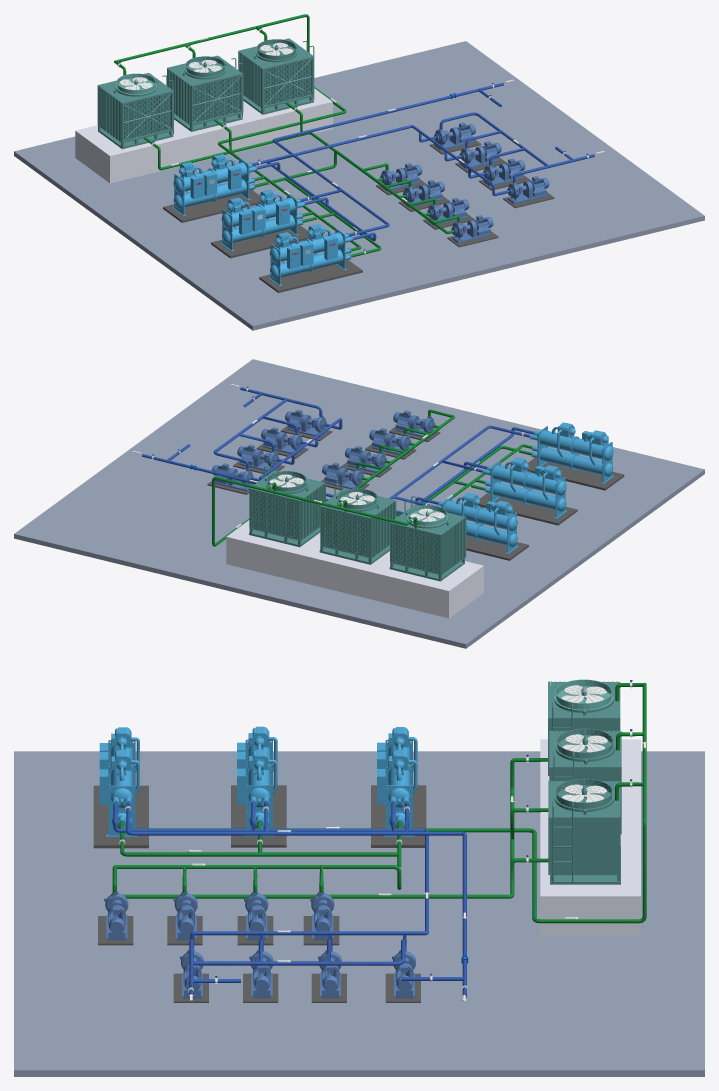
3 views of the same model, one above another, from view 1: azimuth 30°, elevation 25°; view 2: azimuth 150°, elevation 25°; view 3: azimuth 270°, elevation 25° (orthographic). The views are drawn at different scales.
Visible parts, largest first — view 1: 111-地面, 立方体, 1#冷却塔.001, 3#冷却塔, 2#冷却塔, 2#空调主机, 3#空调主机, 1#冷水机, 红管道, 蓝管道, 绿管道, 黄管道2 (+13 smaller); view 2: 111-地面, 立方体, 1#冷却塔.001, 3#冷却塔, 2#冷却塔, 2#空调主机, 3#空调主机, 1#冷水机, 红管道, 黄管道2, 蓝管道, 绿管道 (+12 smaller); view 3: 111-地面, 立方体, 3#冷却塔, 2#冷却塔, 1#冷却塔.001, 红管道, 3#空调主机, 黄管道2, 2#空调主机, 1#冷水机, 绿管道, 蓝管道 (+13 smaller).
Boxes of the visible parts, left/top/right/bottom form: 111-地面: left=14, top=41, right=704, bottom=330; 立方体: left=75, top=88, right=332, bottom=183; 1#冷却塔.001: left=97, top=73, right=173, bottom=149; 3#冷却塔: left=238, top=38, right=314, bottom=114; 2#冷却塔: left=167, top=55, right=243, bottom=131; 2#空调主机: left=220, top=189, right=305, bottom=251; 3#空调主机: left=269, top=224, right=353, bottom=286; 1#冷水机: left=173, top=154, right=257, bottom=216; 红管道: left=114, top=14, right=361, bottom=251; 蓝管道: left=252, top=82, right=503, bottom=236; 绿管道: left=256, top=125, right=509, bottom=241; 黄管道2: left=254, top=150, right=459, bottom=257; 111-地面: left=14, top=359, right=704, bottom=648; 立方体: left=226, top=520, right=483, bottom=618; 1#冷却塔.001: left=389, top=496, right=466, bottom=581; 3#冷却塔: left=249, top=462, right=325, bottom=547; 2#冷却塔: left=319, top=479, right=396, bottom=564; 2#空调主机: left=482, top=457, right=566, bottom=518; 3#空调主机: left=529, top=422, right=613, bottom=483; 1#冷水机: left=434, top=493, right=518, bottom=554; 红管道: left=212, top=444, right=532, bottom=546; 黄管道2: left=355, top=409, right=532, bottom=516; 蓝管道: left=142, top=425, right=530, bottom=505; 绿管道: left=251, top=418, right=534, bottom=514; 111-地面: left=14, top=751, right=704, bottom=1076; 立方体: left=540, top=739, right=640, bottom=935; 3#冷却塔: left=548, top=778, right=620, bottom=884; 2#冷却塔: left=549, top=728, right=621, bottom=834; 1#冷却塔.001: left=548, top=679, right=620, bottom=775; 红管道: left=119, top=682, right=646, bottom=923; 3#空调主机: left=99, top=727, right=139, bottom=836; 黄管道2: left=112, top=832, right=401, bottom=892; 2#空调主机: left=237, top=726, right=277, bottom=836; 1#冷水机: left=377, top=727, right=417, bottom=836; 绿管道: left=113, top=802, right=428, bottom=951; 蓝管道: left=126, top=802, right=466, bottom=997.
Size of the model in its own units: 21.8 by 4.37 by 19.95.
